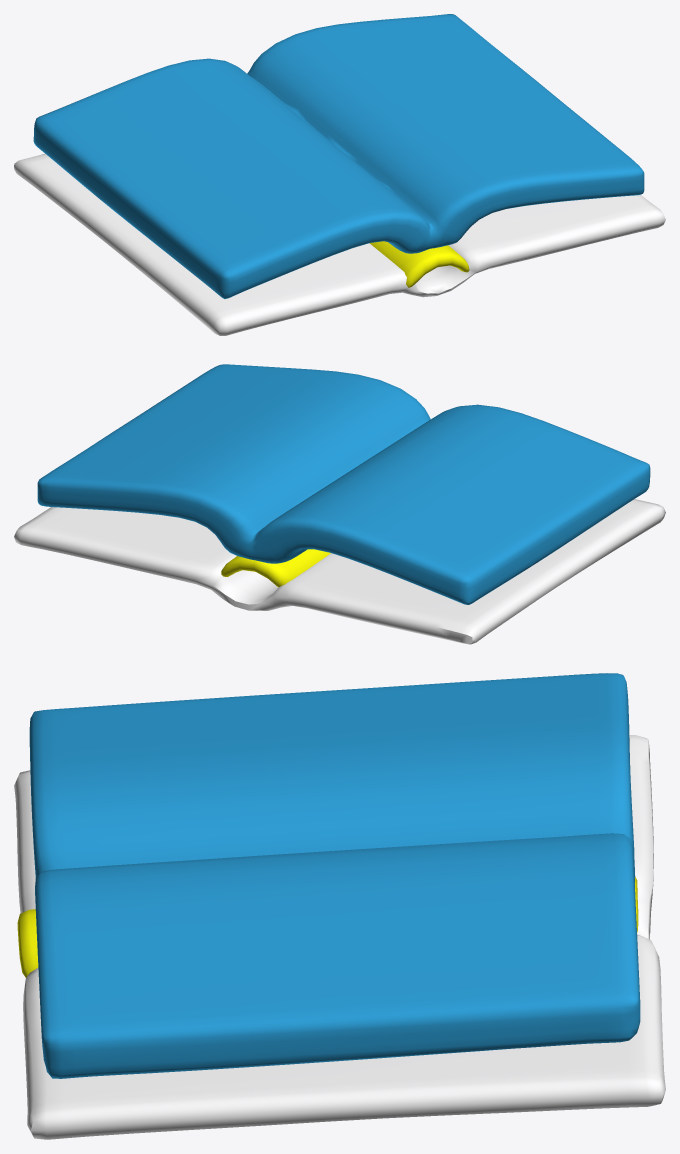
File: open book FBX.glb
3 views of the same model, one above another, from view 1: azimuth 30°, elevation 25°; view 2: azimuth 150°, elevation 25°; view 3: azimuth 270°, elevation 25° (orthographic). The views are drawn at different scales.
Visible parts, largest first — view 1: B3, open_book, Group8012; view 2: B3, open_book, Group8012; view 3: B3, open_book, Group8012.
Boxes of the visible parts, left/top/right/bottom form: B3: left=33, top=14, right=644, bottom=298; open_book: left=14, top=154, right=665, bottom=335; Group8012: left=369, top=241, right=469, bottom=287; B3: left=37, top=364, right=650, bottom=604; open_book: left=14, top=499, right=665, bottom=644; Group8012: left=221, top=549, right=330, bottom=587; B3: left=29, top=673, right=640, bottom=1078; open_book: left=14, top=735, right=665, bottom=1139; Group8012: left=17, top=877, right=638, bottom=977.
Size of the model in its own units: 1.22 by 0.2942 by 0.9481.
3 materials, 1 textured.
